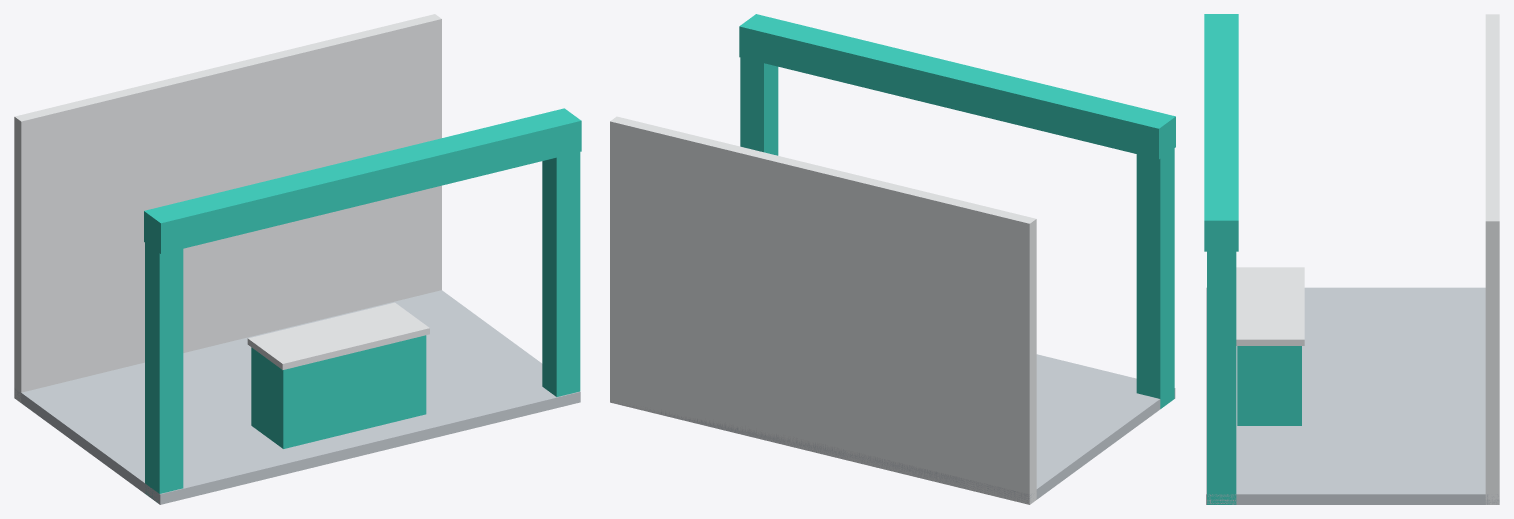
3 views of the same model, side by side, from view 1: azimuth 30°, elevation 25°; view 2: azimuth 150°, elevation 25°; view 3: azimuth 270°, elevation 25° (orthographic).
Visible parts, largest first — view 1: Exhibition Booth Concept; view 2: Exhibition Booth Concept; view 3: Exhibition Booth Concept.
Boxes of the visible parts, x1,y1,x2,y2 form: Exhibition Booth Concept: (14, 14, 581, 504); Exhibition Booth Concept: (610, 14, 1175, 504); Exhibition Booth Concept: (1204, 14, 1499, 504).
Size of the model in its own units: 5 by 3.2 by 3.01.
